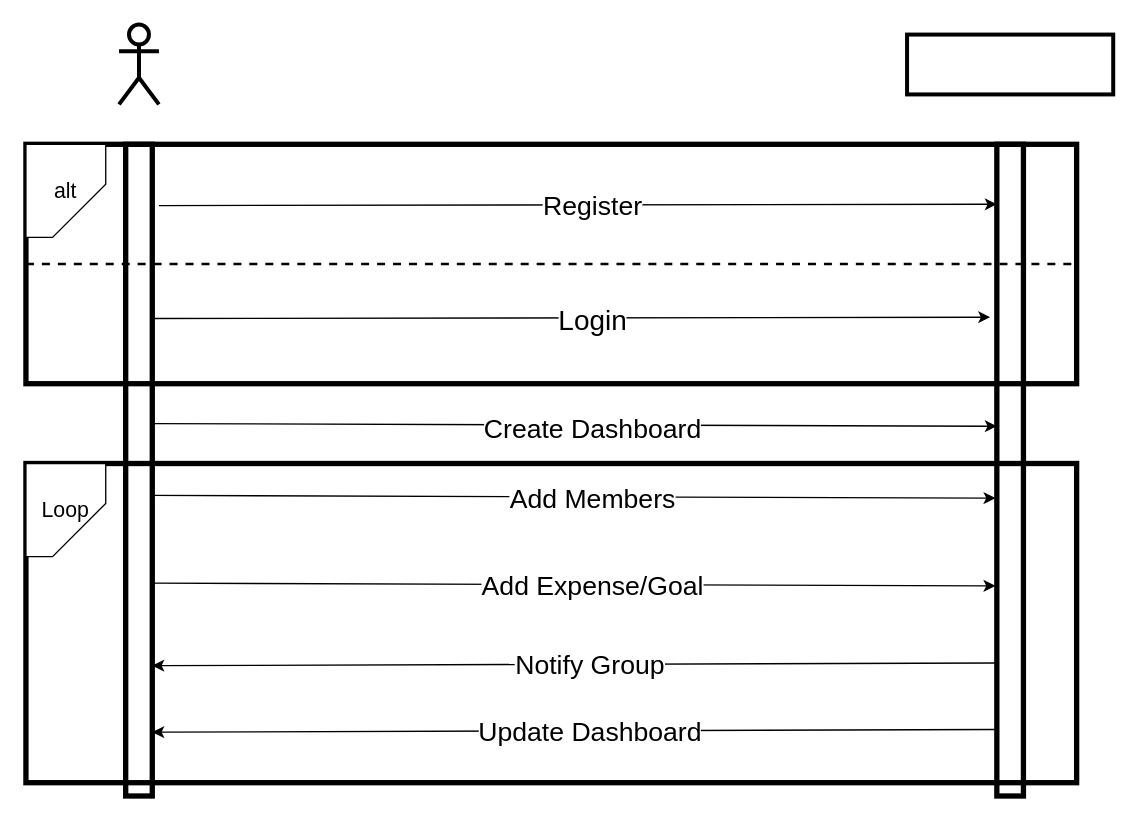
The diagram is 1137 pixels wide and 822 high, and some of its shapes have lost their labels. The shapes that lost their labels are listed below. From the top down, each one's centre as x and y in pixels, then its label:
At (138,64): "User".
At (1009,64): "GoalSync".
